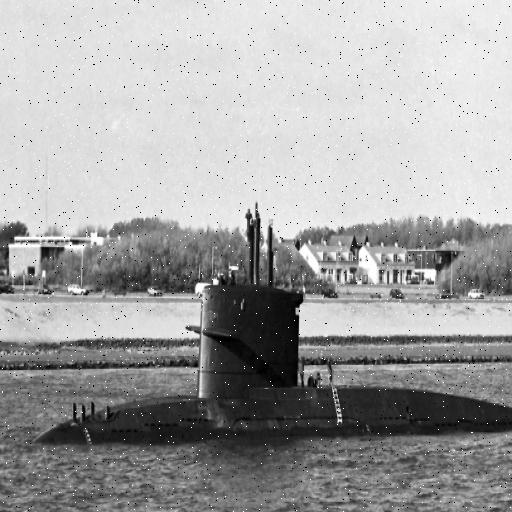submarine: (31, 190, 512, 448)
